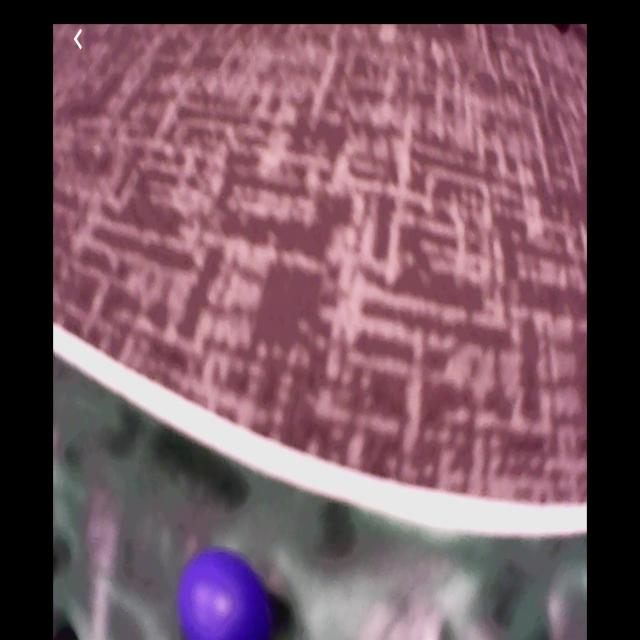ball: (175, 551, 272, 640)
